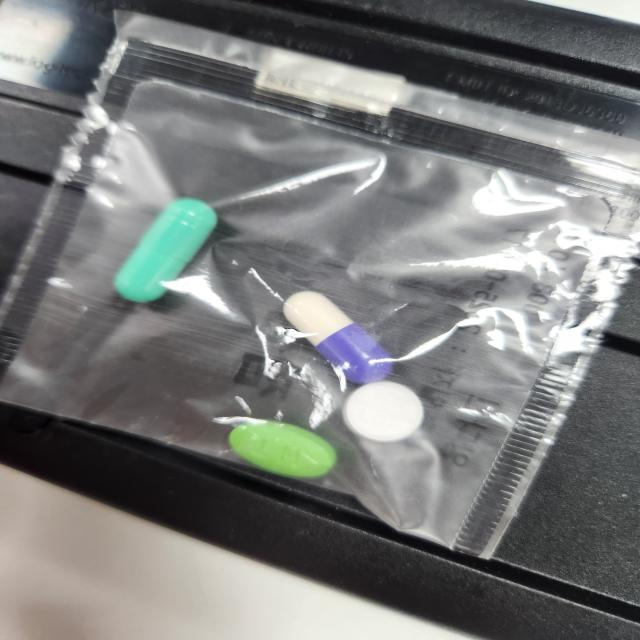러키펜정: (340, 382, 425, 444)
씨엠지세파클러캡슐: (283, 291, 395, 389)
에르도캡슐: (112, 199, 218, 306)
휴티렌정: (228, 422, 337, 481)
